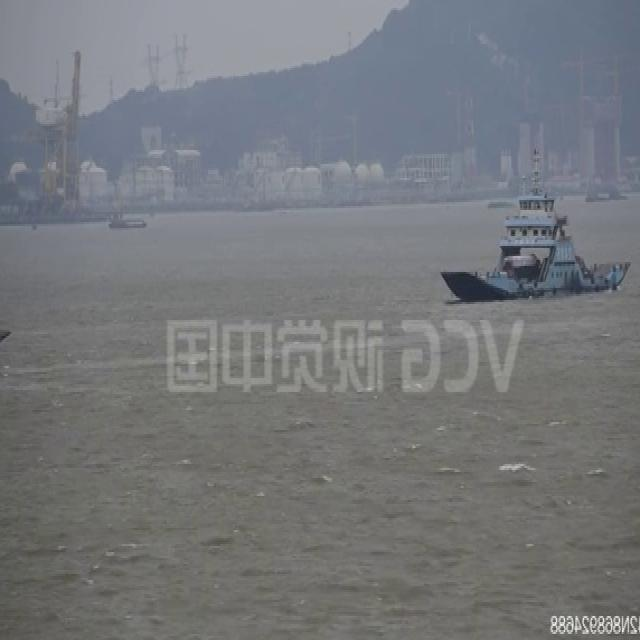cargoship: (445, 152, 634, 325)
